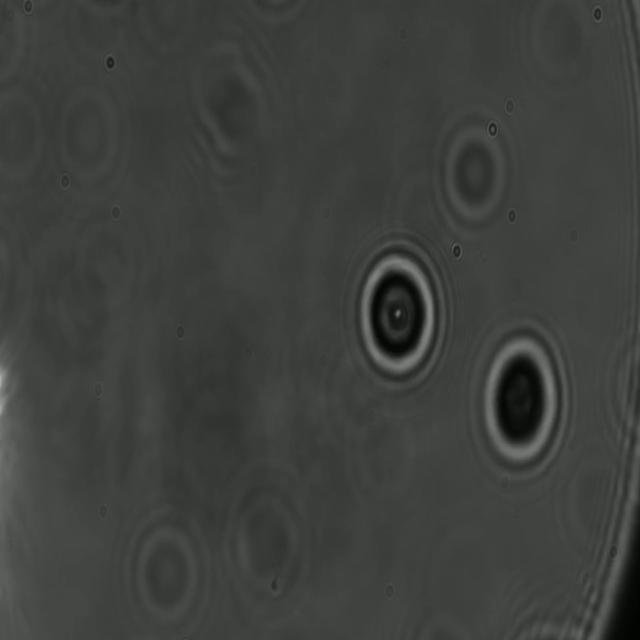LCELL: (352, 238, 449, 394)
